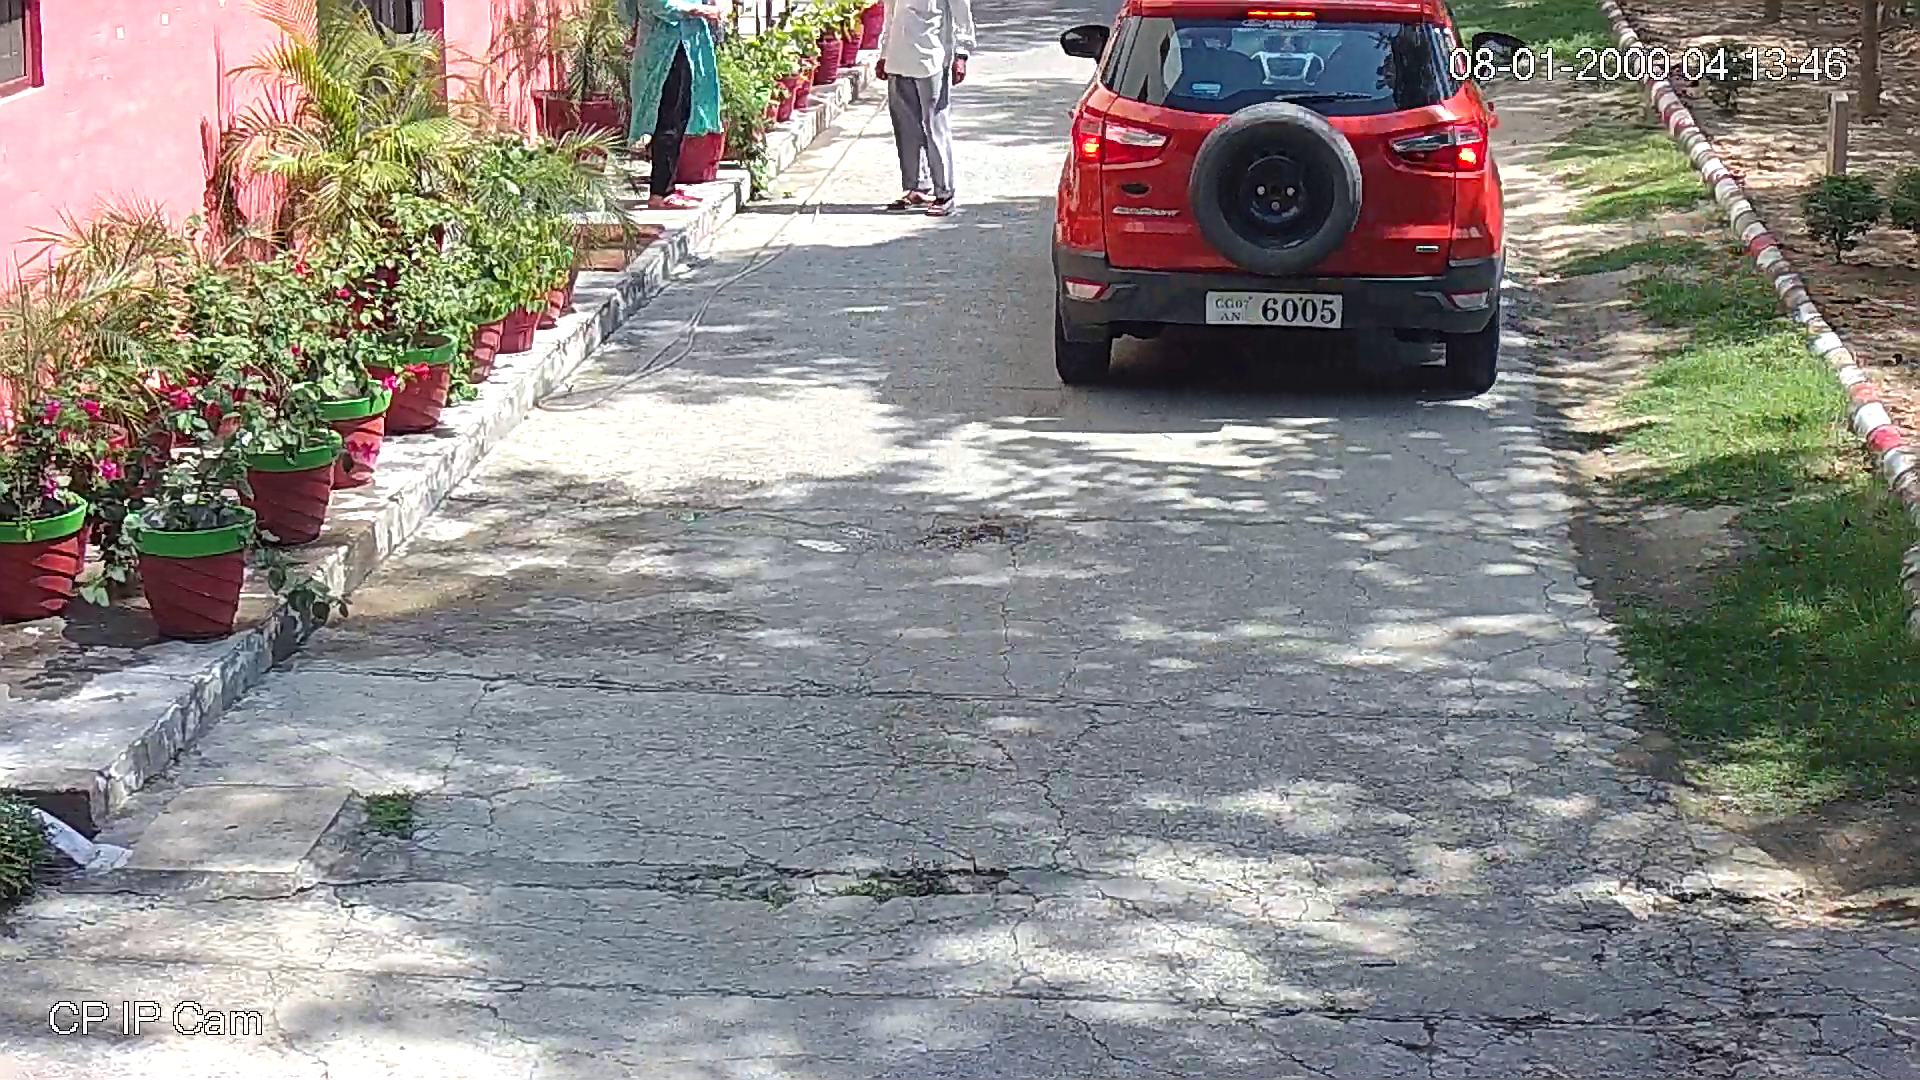plate: (1200, 287, 1351, 337)
